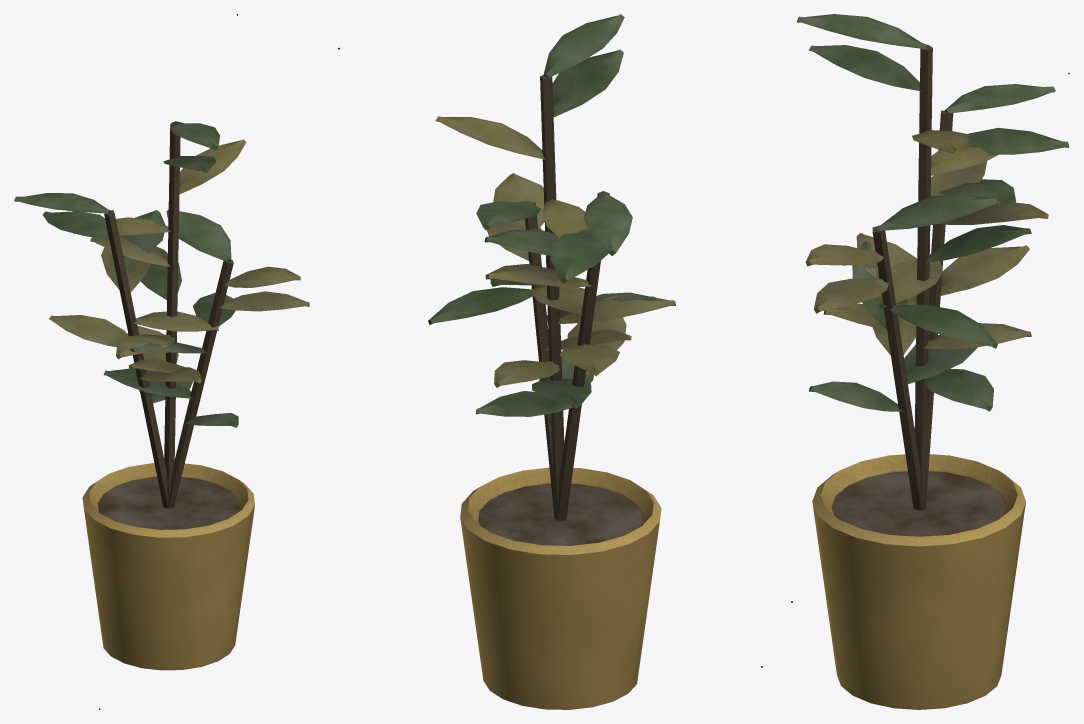
Rendered from H_PlantFiddle.fbx.
3 renders of one model, left to right at view 1: azimuth 30°, elevation 25°; view 2: azimuth 150°, elevation 25°; view 3: azimuth 270°, elevation 25°, orthographic. The views are drawn at different scales.
Parts seen in each view (by area): view 1: H_PlantFiddle; view 2: H_PlantFiddle; view 3: H_PlantFiddle.
Part boxes in pixels (x1=…): H_PlantFiddle: x1=14, y1=14, x2=309, y2=709; H_PlantFiddle: x1=338, y1=14, x2=762, y2=709; H_PlantFiddle: x1=791, y1=14, x2=1069, y2=709.
Size of the model in its own units: 261 by 548 by 203.
Materials: 1 (1 with a texture image).
